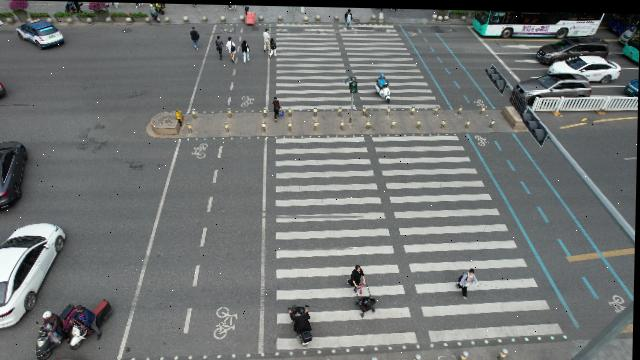non-motor-vehicle: (70, 303, 123, 348), (35, 309, 76, 357), (290, 303, 313, 338), (374, 73, 393, 101), (152, 3, 168, 13)
person: (344, 257, 387, 320), (459, 262, 480, 304), (270, 94, 286, 124), (240, 37, 254, 64), (226, 35, 239, 61), (187, 27, 200, 48), (244, 5, 255, 26), (262, 27, 271, 52), (269, 35, 278, 60), (214, 36, 224, 58), (344, 7, 353, 24)
